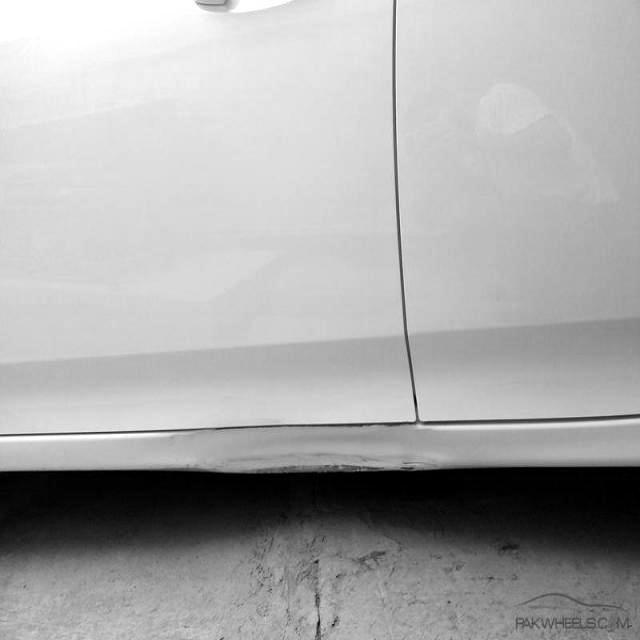Runningboard-Damage: (103, 409, 487, 493)
